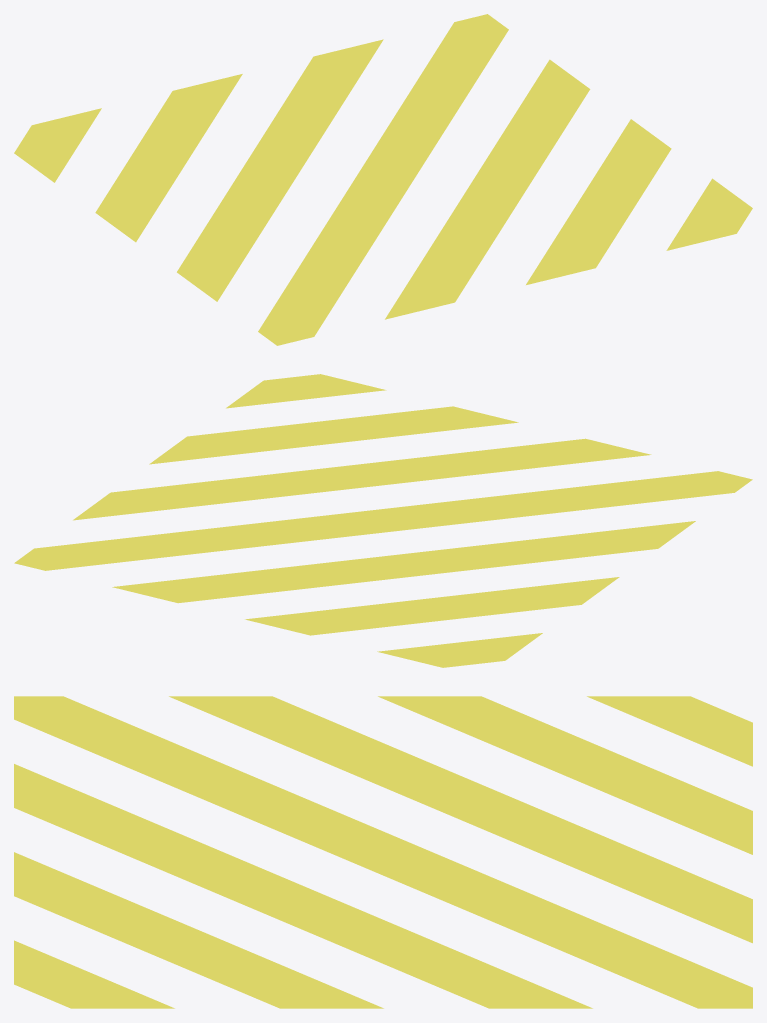
Rendered from Button_YellowDiagonalUp.glb.
The picture shows the model from 3 angles, top to bottom: view 1: azimuth 30°, elevation 25°; view 2: azimuth 150°, elevation 25°; view 3: azimuth 270°, elevation 25°; orthographic projection. The views are drawn at different scales.
Visible parts, largest first — view 1: indicator-special-lines.008; view 2: indicator-special-lines.008; view 3: indicator-special-lines.008.
Boxes of the visible parts, x1,y1,x2,y2 form: indicator-special-lines.008: (14,14,752,345); indicator-special-lines.008: (14,374,752,667); indicator-special-lines.008: (14,696,752,1008).
Bounding box in the file's own units: 1 × 0 × 1.
